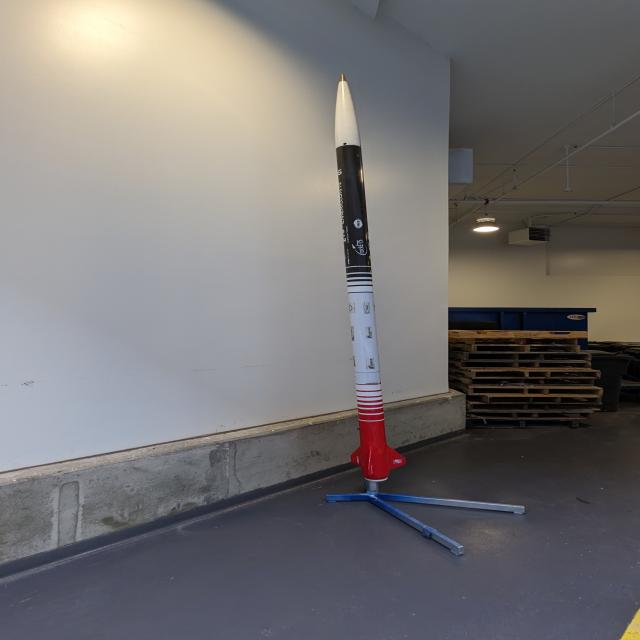Rocket: (334, 73, 406, 482)
